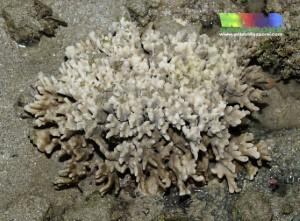bleached_corals: (23, 17, 275, 221)
